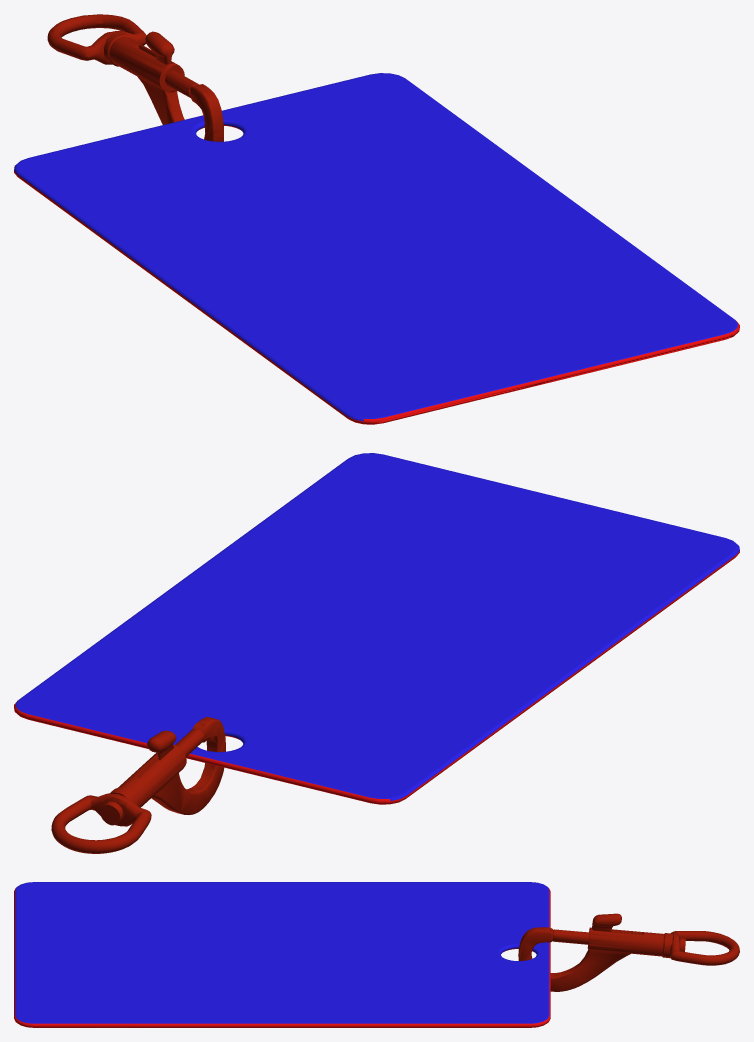
Rendered from card.glb.
3 renders of one model, top to bottom at view 1: azimuth 30°, elevation 25°; view 2: azimuth 150°, elevation 25°; view 3: azimuth 270°, elevation 25°, orthographic. The views are drawn at different scales.
Visible parts, largest first — view 1: card, klipsu; view 2: card, klipsu; view 3: card, klipsu.
Boxes of the visible parts, box(x1,y1,x2,y2) form: card: box(14, 73, 739, 424); klipsu: box(47, 14, 223, 141); card: box(14, 453, 739, 804); klipsu: box(51, 717, 225, 853); card: box(14, 882, 550, 1027); klipsu: box(518, 913, 739, 991).
Size of the model in its own units: 0.435 by 0.1079 by 0.9335.
3 materials, 1 textured.
